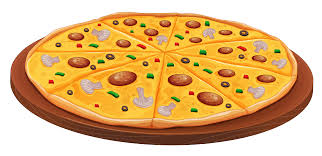pizza: (24, 15, 301, 123)
